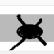not correct: (9, 14, 49, 51)
